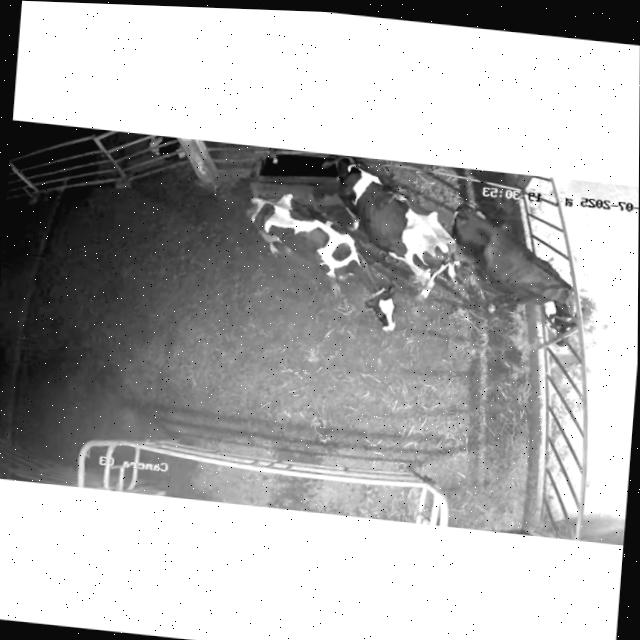stand: (227, 185, 422, 358)
